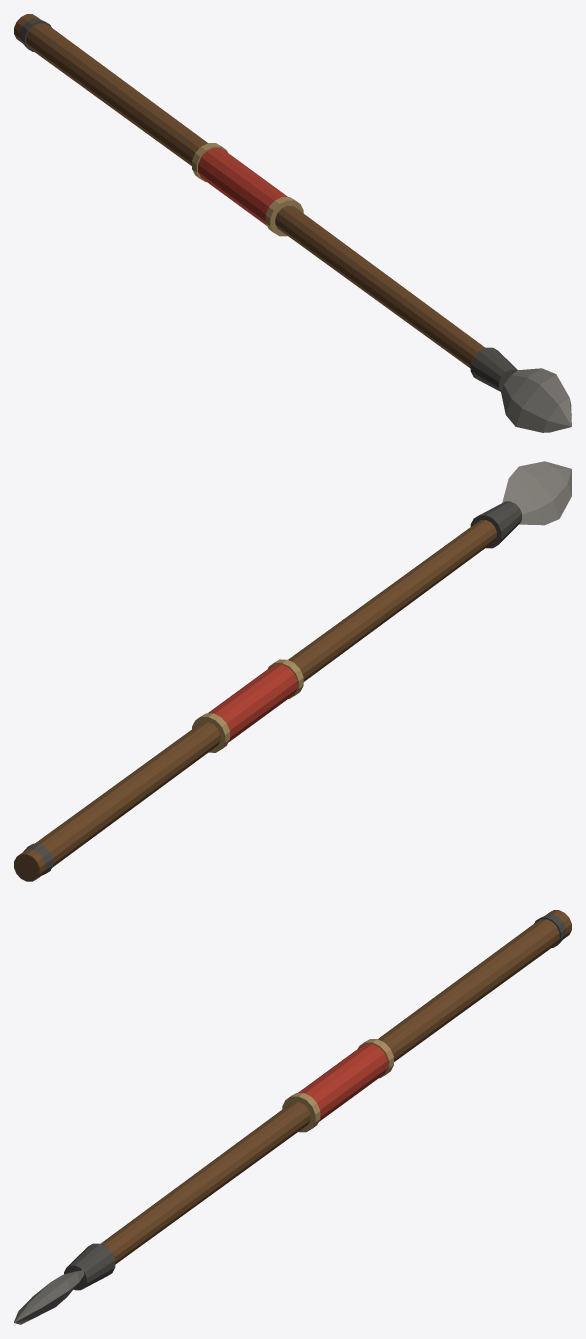
Rendered from spear-hunter.glb.
The picture shows the model from 3 angles, top to bottom: view 1: azimuth 30°, elevation 25°; view 2: azimuth 150°, elevation 25°; view 3: azimuth 330°, elevation 25°; orthographic projection.
Visible parts, largest first — view 1: Body_Wood, Body_Metal, Body_Second, Body_Iron, Body_Rope; view 2: Body_Wood, Body_Metal, Body_Second, Body_Iron, Body_Rope; view 3: Body_Wood, Body_Second, Body_Iron, Body_Metal, Body_Rope.
Part boxes in pixels (x1=…): Body_Wood: x1=14, y1=14, x2=484, y2=368; Body_Metal: x1=501, y1=368, x2=571, y2=432; Body_Second: x1=198, y1=148, x2=287, y2=225; Body_Iron: x1=20, y1=18, x2=517, y2=391; Body_Rope: x1=192, y1=143, x2=303, y2=236; Body_Wood: x1=14, y1=520, x2=496, y2=881; Body_Metal: x1=502, y1=461, x2=571, y2=525; Body_Second: x1=208, y1=664, x2=297, y2=742; Body_Iron: x1=16, y1=501, x2=521, y2=879; Body_Rope: x1=192, y1=659, x2=303, y2=752; Body_Wood: x1=101, y1=910, x2=571, y2=1264; Body_Second: x1=298, y1=1044, x2=387, y2=1121; Body_Iron: x1=64, y1=914, x2=565, y2=1290; Body_Metal: x1=14, y1=1270, x2=84, y2=1324; Body_Rope: x1=282, y1=1039, x2=393, y2=1132.
Size of the model in its own units: 0.1 by 0.1 by 2.2.
